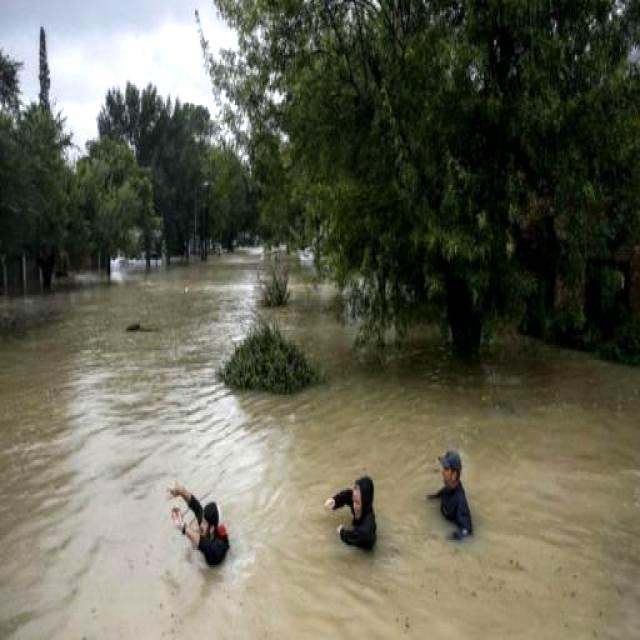civilian: (148, 464, 248, 586), (421, 441, 492, 554), (323, 464, 390, 562)
